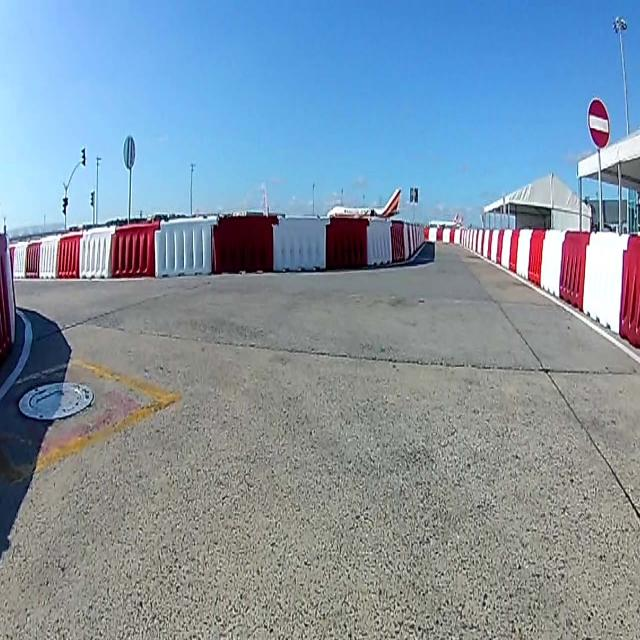girisyok: (587, 97, 611, 150)
